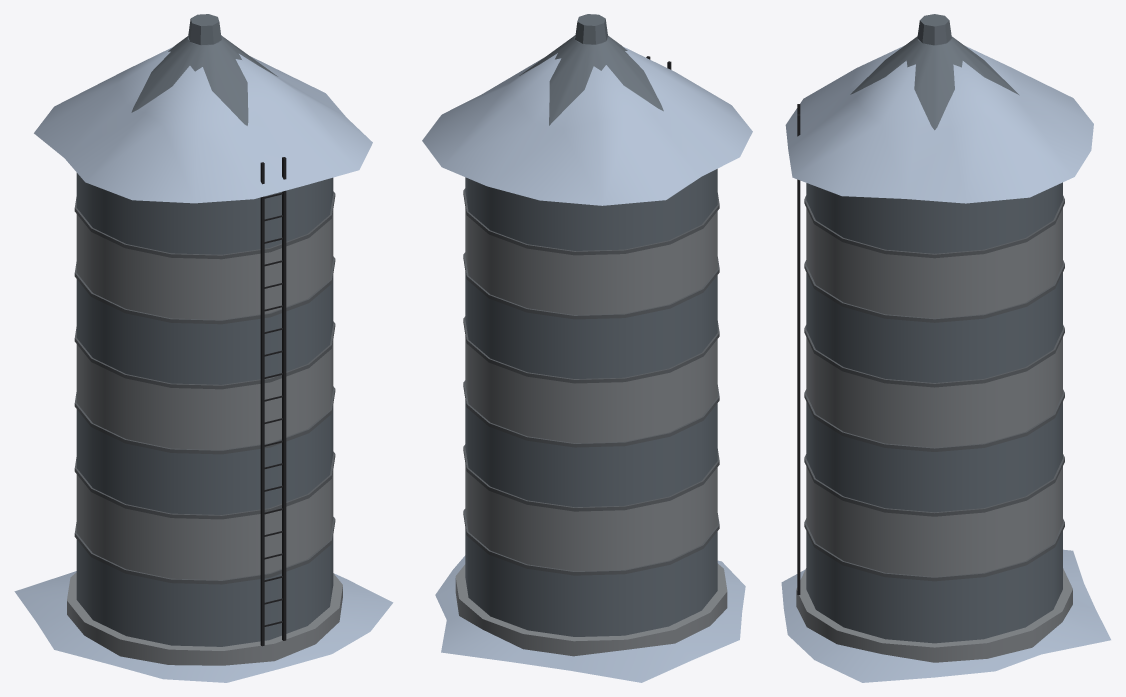
File: silo.glb
3 renders of one model, left to right at view 1: azimuth 30°, elevation 25°; view 2: azimuth 150°, elevation 25°; view 3: azimuth 270°, elevation 25°, orthographic.
Parts seen in each view (by area): view 1: Prop; view 2: Prop; view 3: Prop.
Part boxes in pixels (x1=…): Prop: x1=14, y1=14, x2=393, y2=682; Prop: x1=422, y1=14, x2=752, y2=682; Prop: x1=781, y1=14, x2=1110, y2=682.
Bounding box in the file's own units: 7.03 × 13.15 × 6.68.
